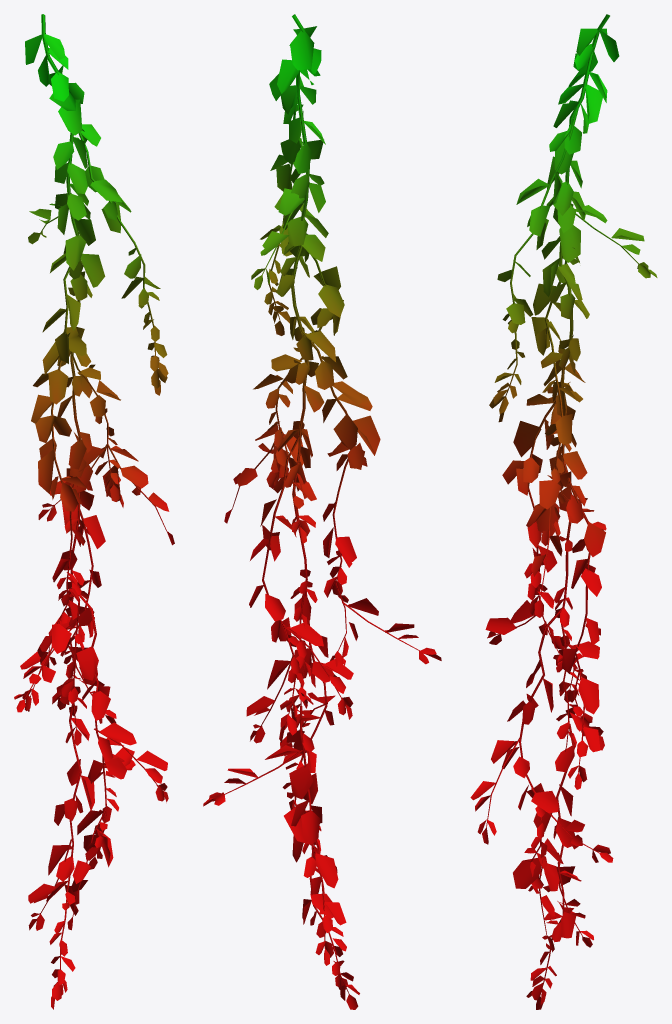
The model's file is Var8_LOD3.fbx.
The picture shows the model from 3 angles, left to right: view 1: azimuth 30°, elevation 25°; view 2: azimuth 150°, elevation 25°; view 3: azimuth 270°, elevation 25°; orthographic projection. The views are drawn at different scales.
Visible parts, largest first — view 1: _i4bt_Var8_LOD3; view 2: _i4bt_Var8_LOD3; view 3: _i4bt_Var8_LOD3.
Part boxes in pixels (x1=…): _i4bt_Var8_LOD3: x1=14, y1=14, x2=174, y2=1009; _i4bt_Var8_LOD3: x1=203, y1=14, x2=441, y2=1009; _i4bt_Var8_LOD3: x1=470, y1=14, x2=657, y2=1009.
Bounding box in the file's own units: 42.15 × 216 × 36.28.
